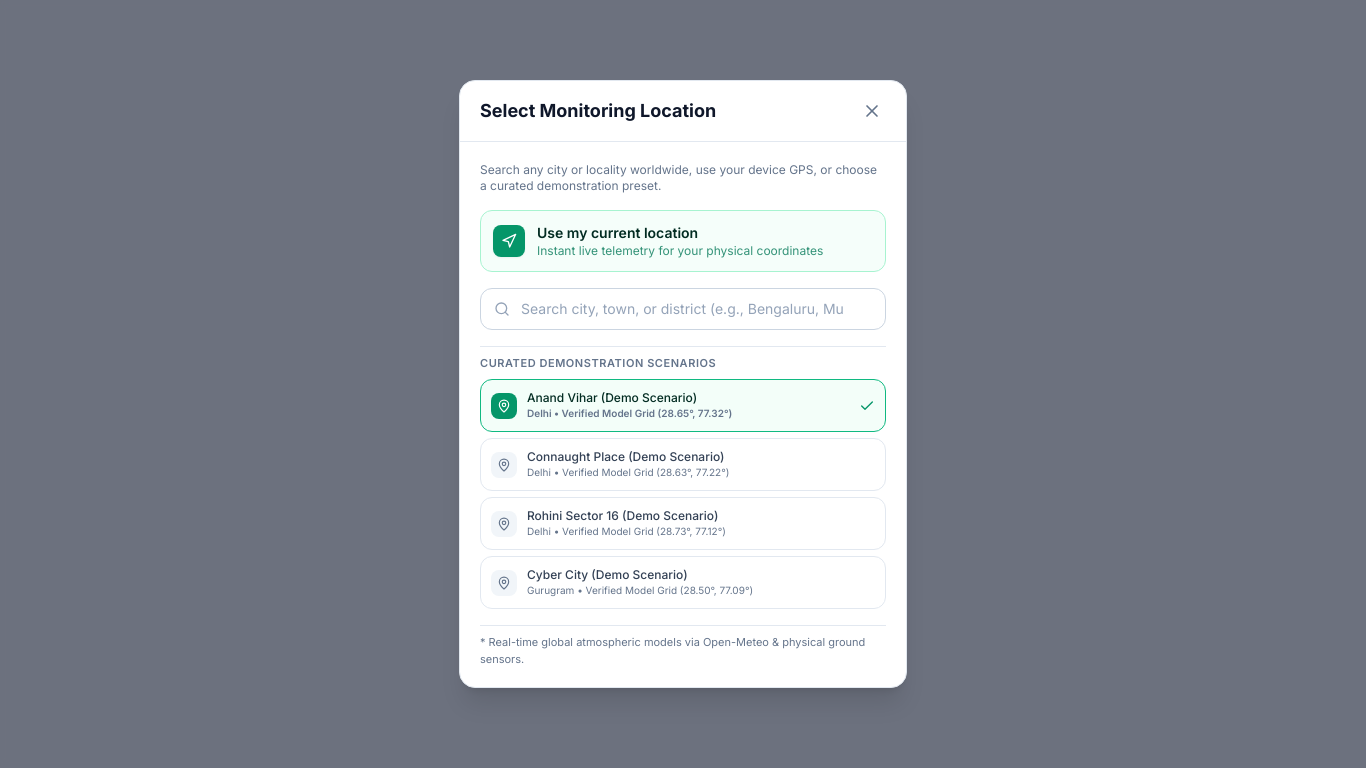
Scenario: Phase 7.1 — Live Location System › 2. GPS Geolocation › 2.3 handles permission denied error (code 1) gracefully
The width and height of the screenshot is (1366, 768).
Click the button with test id "use-current-location-button" at (683, 241), box [480,210,886,272]
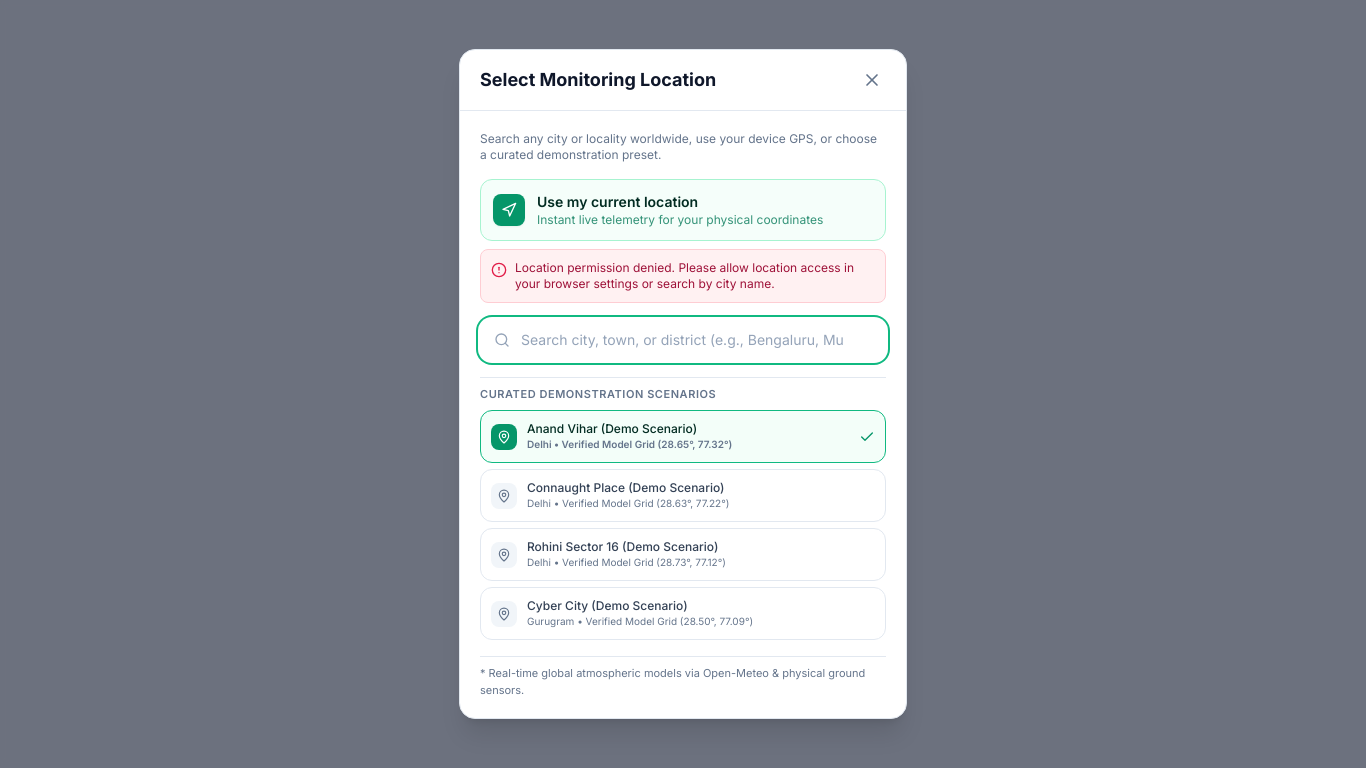
expect the message with test id "gps-error-message" is shown: met, box [480,249,886,303]
expect the text "Location permission denied. Please allow location access in your browser settings" is shown: met, box [515,260,854,291]
